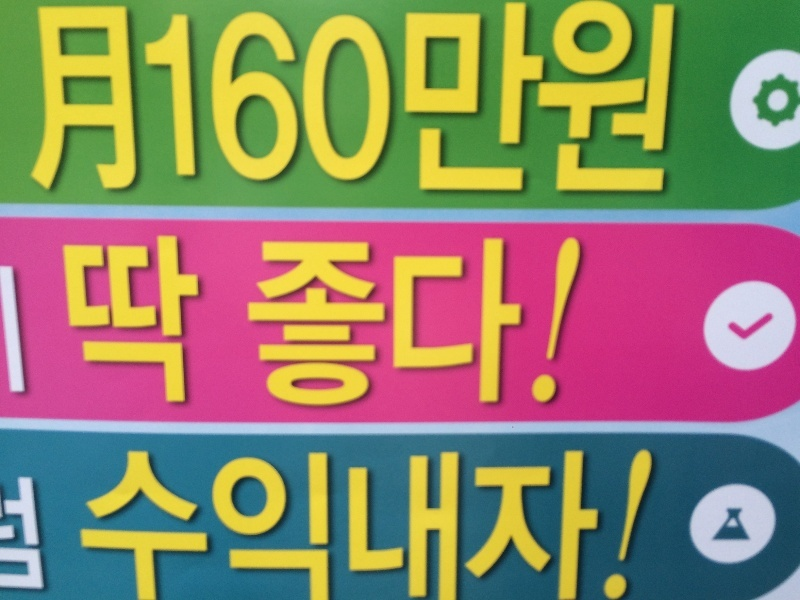text: (145, 1, 160, 201), (161, 1, 176, 201), (177, 1, 192, 201), (193, 1, 208, 201), (209, 1, 224, 201), (225, 1, 240, 201), (241, 1, 256, 201), (257, 1, 272, 201), (273, 1, 288, 201), (289, 1, 304, 201), (305, 1, 320, 201), (321, 1, 336, 201), (337, 1, 352, 201), (353, 1, 368, 201), (369, 1, 384, 201), (385, 1, 400, 201), (401, 1, 416, 201), (417, 1, 432, 201), (433, 1, 448, 201), (449, 1, 464, 201), (465, 1, 480, 201), (481, 1, 496, 201), (497, 1, 512, 201), (513, 1, 528, 201), (529, 1, 544, 201), (545, 1, 560, 201), (561, 1, 576, 201), (577, 1, 592, 201), (593, 1, 608, 201), (609, 1, 624, 201), (625, 1, 640, 201), (641, 1, 656, 201), (657, 1, 672, 201), (49, 5, 64, 194), (65, 5, 80, 194), (81, 5, 96, 194), (97, 5, 112, 194), (113, 5, 128, 194), (193, 232, 209, 407), (34, 5, 48, 194), (65, 232, 80, 407), (81, 232, 96, 407), (97, 232, 112, 407), (113, 232, 128, 407), (129, 232, 144, 407), (145, 232, 160, 407), (161, 232, 176, 407), (177, 232, 192, 407), (257, 237, 272, 410), (273, 237, 288, 410), (289, 237, 304, 410), (305, 237, 320, 410), (321, 237, 336, 410), (337, 237, 352, 410), (353, 237, 368, 410), (369, 237, 384, 410), (385, 237, 400, 410), (401, 237, 416, 410), (417, 237, 432, 410), (433, 237, 448, 410), (449, 237, 464, 410), (465, 237, 480, 410), (481, 237, 496, 410), (497, 237, 512, 410), (513, 237, 528, 410), (529, 237, 544, 410), (545, 237, 560, 410), (561, 237, 576, 410), (81, 450, 96, 600), (97, 450, 112, 600), (113, 450, 128, 600), (129, 450, 144, 600), (145, 450, 160, 600), (161, 450, 176, 600), (177, 450, 192, 600), (193, 450, 208, 600), (209, 450, 224, 600), (225, 450, 240, 600), (241, 450, 256, 600), (257, 450, 272, 600), (273, 450, 288, 600), (289, 450, 304, 600), (305, 450, 320, 600), (321, 450, 336, 600), (337, 450, 352, 600), (353, 450, 368, 600), (369, 450, 384, 600), (385, 450, 400, 600), (401, 450, 416, 600), (417, 450, 432, 600), (433, 450, 448, 600), (449, 450, 464, 600), (465, 450, 480, 600), (481, 450, 496, 600), (497, 450, 512, 600), (513, 450, 528, 600), (529, 450, 544, 600), (545, 450, 560, 600), (561, 450, 576, 600), (577, 450, 592, 600), (593, 450, 608, 600), (609, 450, 624, 600), (625, 450, 640, 600), (641, 450, 656, 600), (33, 475, 49, 594), (129, 5, 139, 194), (1, 475, 16, 594), (17, 475, 32, 594), (246, 237, 256, 410), (577, 237, 585, 410), (138, 1, 144, 201), (673, 1, 678, 201), (60, 232, 64, 407), (657, 450, 661, 600), (79, 450, 80, 600)
